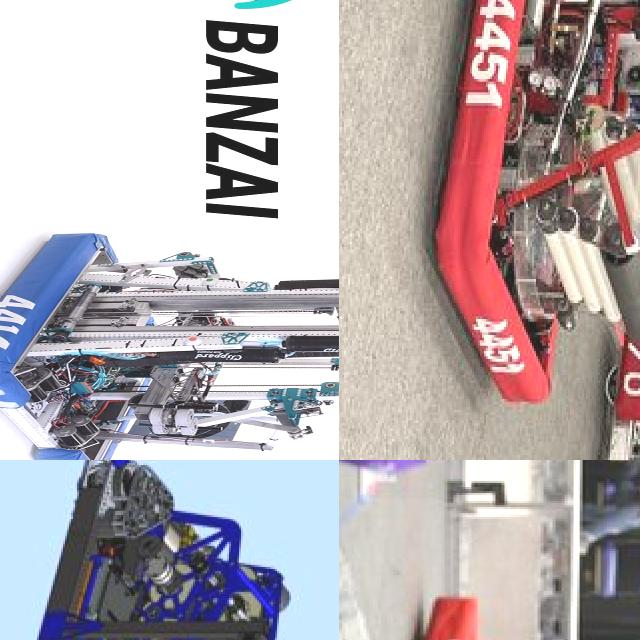FRC-Robots: (399, 0, 640, 424), (0, 200, 339, 460), (1, 460, 339, 640), (427, 558, 640, 640), (590, 333, 640, 460)
